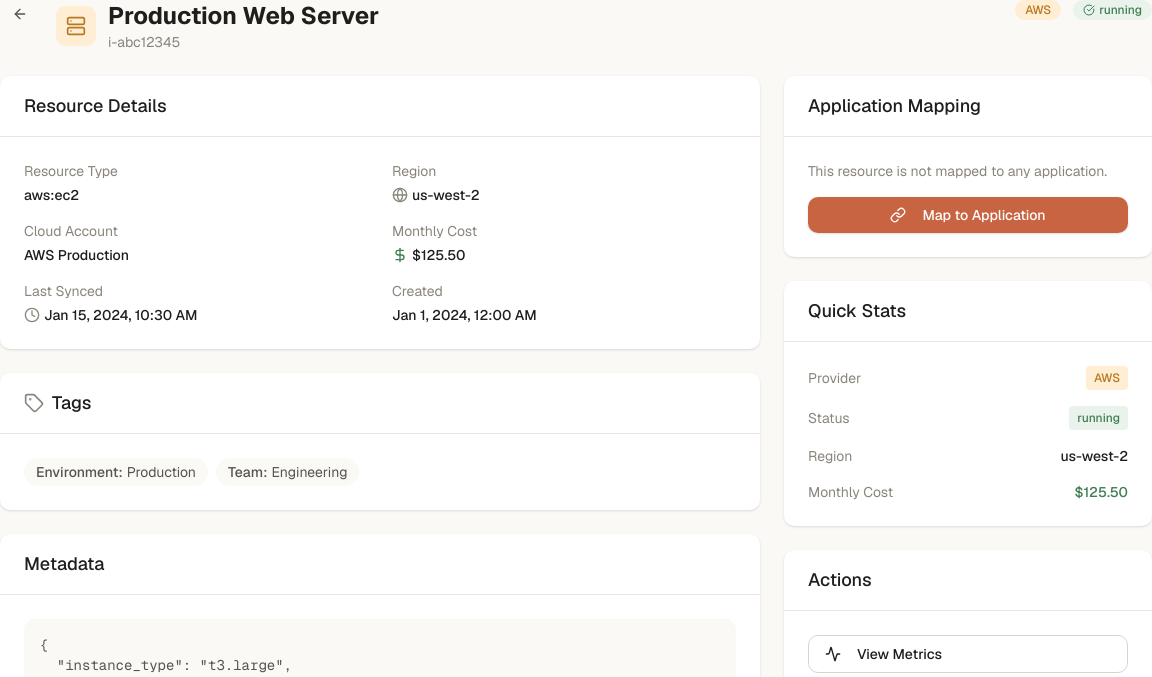
ResourceDetailPage › Application Mapping - Unmapped › opens map modal when button clicked
Click the button "Map to Application": [968, 215] box [808, 197, 1128, 233]
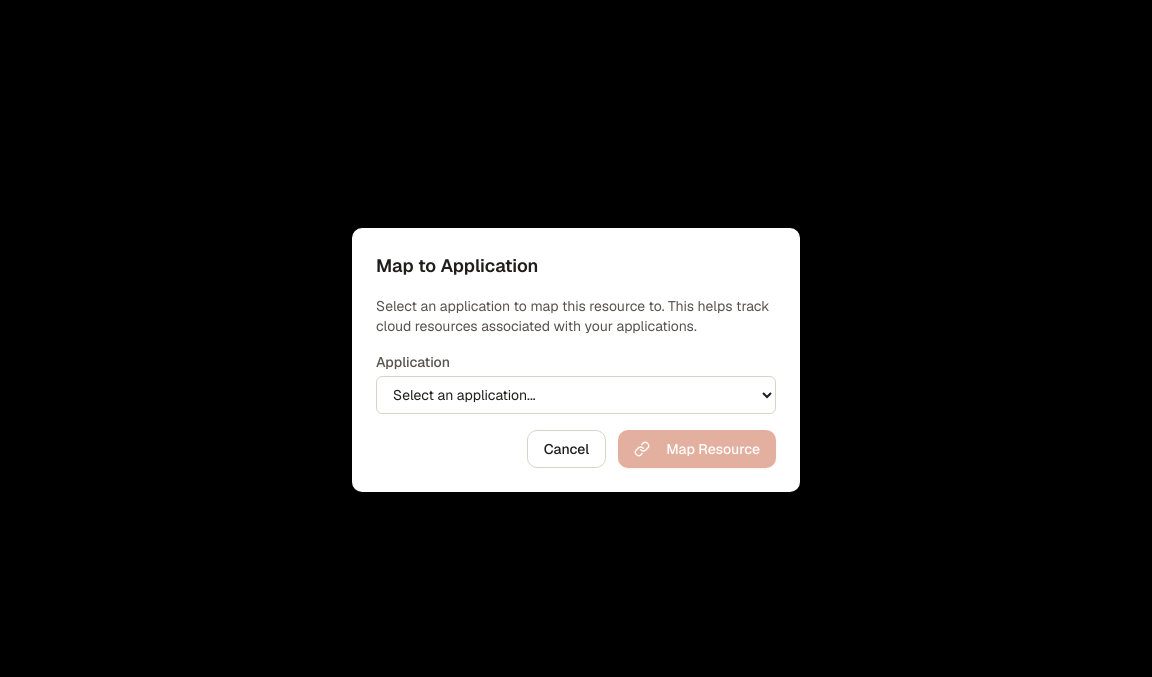
Expected: the heading "Map to Application" is shown, [376, 254, 538, 277]
